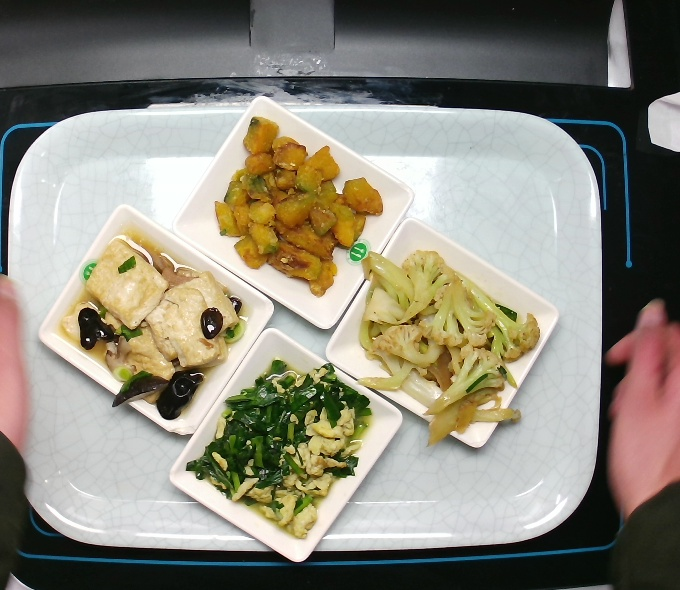wcq-DanHuangNanGua: (202, 109, 384, 299)
wcq-JiaChangDouFu: (55, 237, 248, 434)
wcq-JiuCaiJiDan: (192, 354, 377, 543)
wcq-QiuCai: (338, 243, 546, 441)
